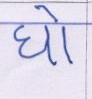e_matra: (33, 5, 61, 21)
